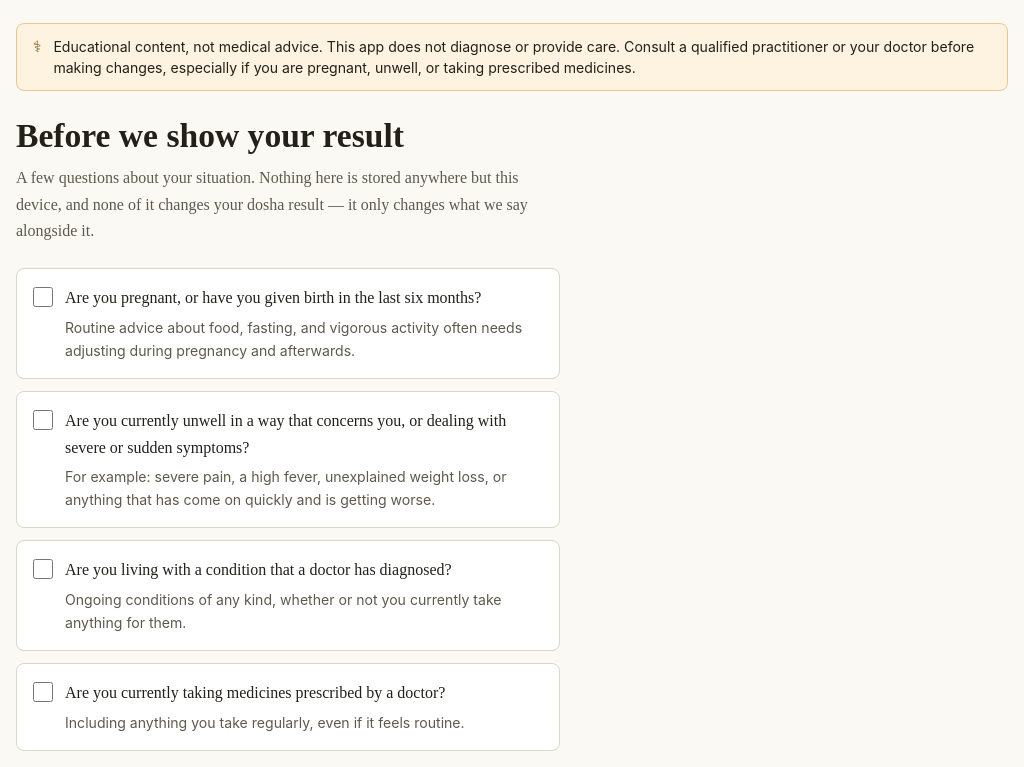
Test: every red flag surfaces professional-care guidance before results › current-medication
The width and height of the screenshot is (1024, 767).
Click the 4th checkbox.
click(43, 692)  # box [33,682,53,702]
(page scrolled)
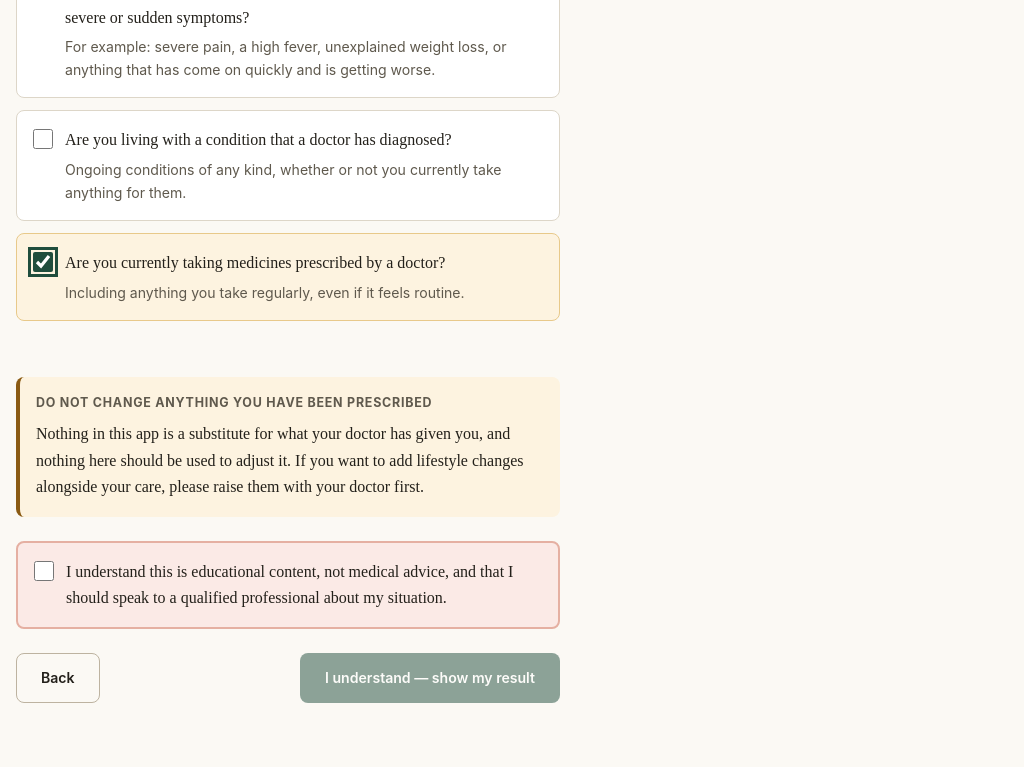
Check: the element with test id "red-flag-messages" is shown, box [16,377,560,517]
Check: the element with test id "red-flag-messages" shows "Do not change anything you have been prescribed", box [36,395,432,410]
